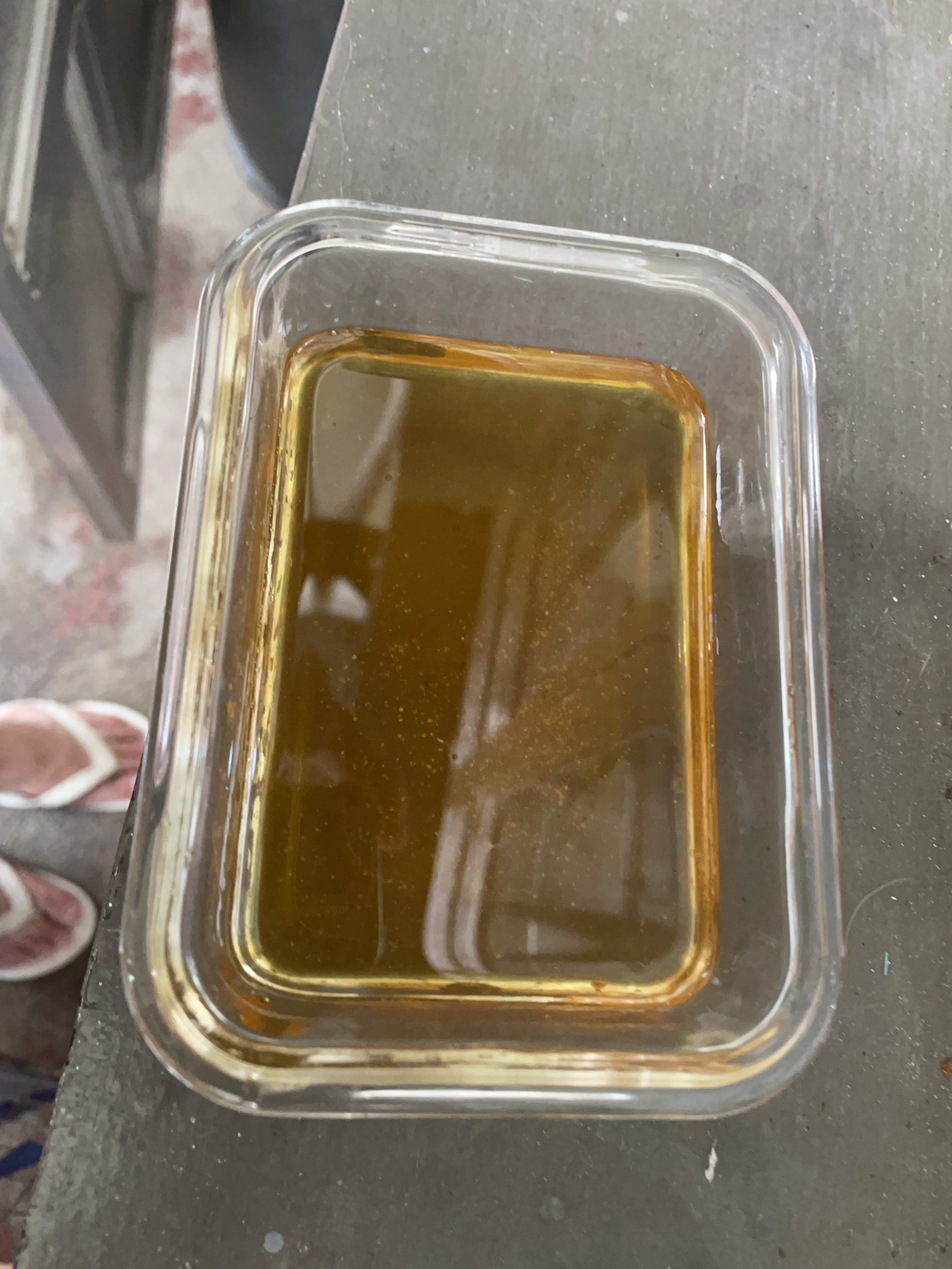reusable: (227, 321, 718, 1007)
